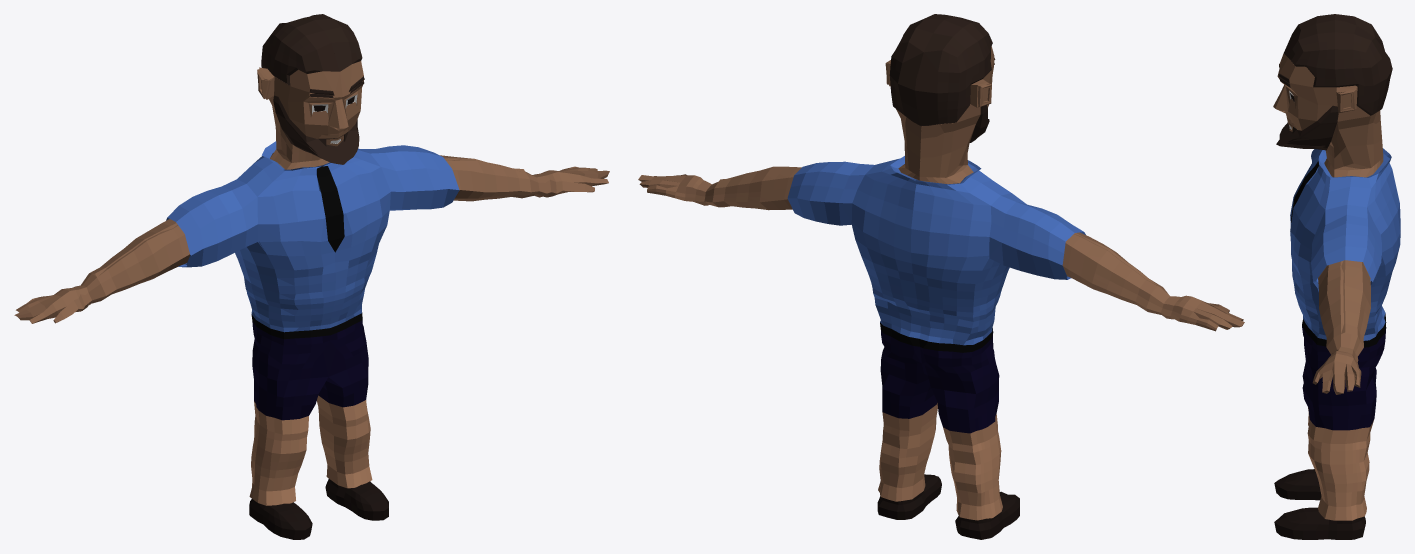
File: milicajac.fbx
3 views of the same model, side by side, from view 1: azimuth 30°, elevation 25°; view 2: azimuth 150°, elevation 25°; view 3: azimuth 270°, elevation 25° (orthographic).
Parts seen in each view (by area): view 1: ROBA.009; view 2: ROBA.009; view 3: ROBA.009.
Part boxes in pixels (x1=…): ROBA.009: x1=14, y1=14, x2=609, y2=539; ROBA.009: x1=638, y1=14, x2=1244, y2=539; ROBA.009: x1=1273, y1=14, x2=1400, y2=539.
Size of the model in its own units: 1350 by 1064 by 250.
